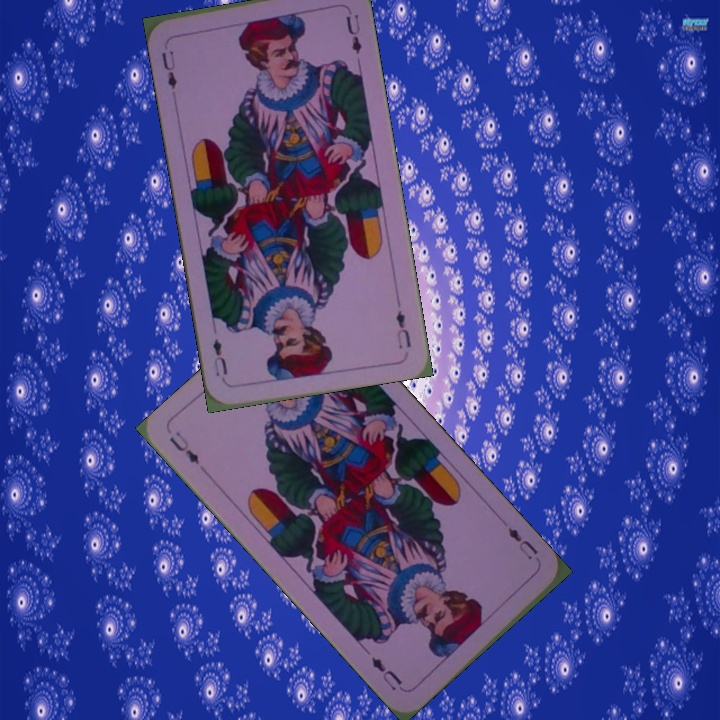EU: (165, 427, 202, 467), (504, 523, 540, 562), (157, 46, 179, 92), (392, 306, 414, 351)
